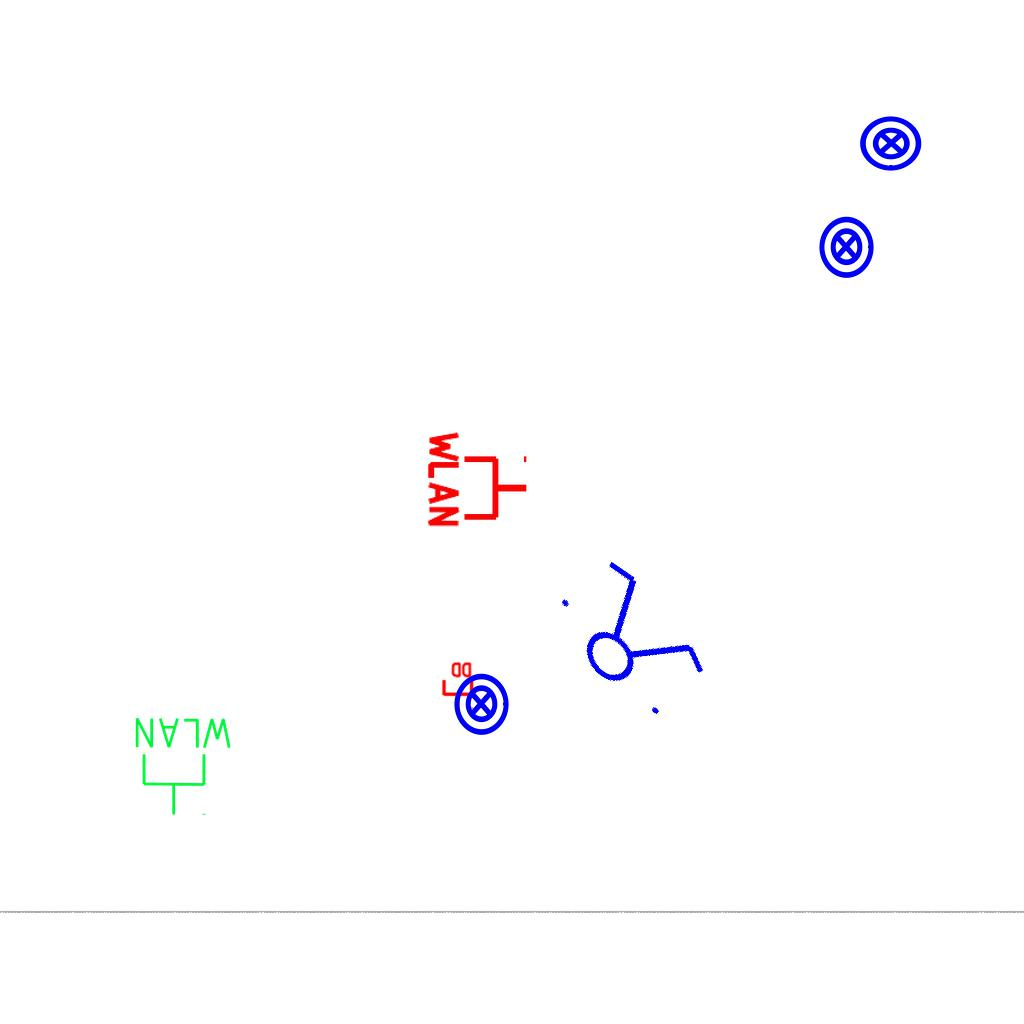Datenanschluss_zweifach: (440, 660, 474, 711)
Serienschalter: (538, 543, 720, 735)
Taster_beleuchtet: (813, 214, 879, 280), (858, 110, 924, 176), (448, 671, 514, 737)
WLAN: (131, 714, 236, 818), (426, 427, 531, 531)
